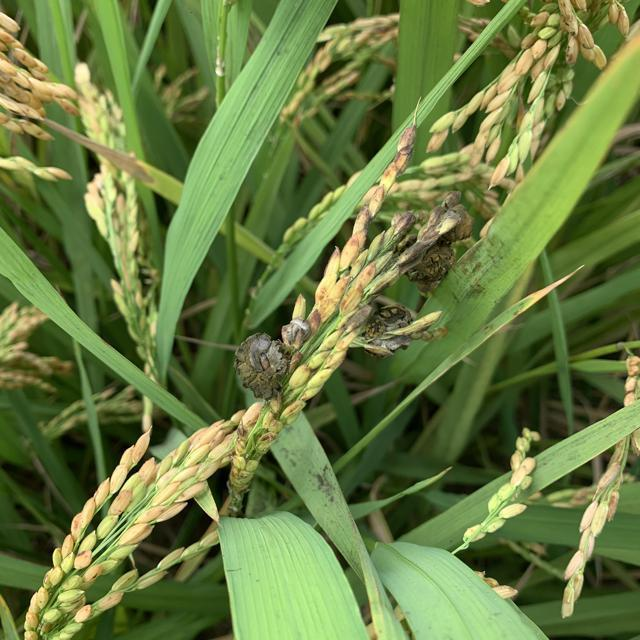Leaf_Scald: (402, 200, 476, 284), (228, 330, 303, 400), (347, 299, 422, 356)
